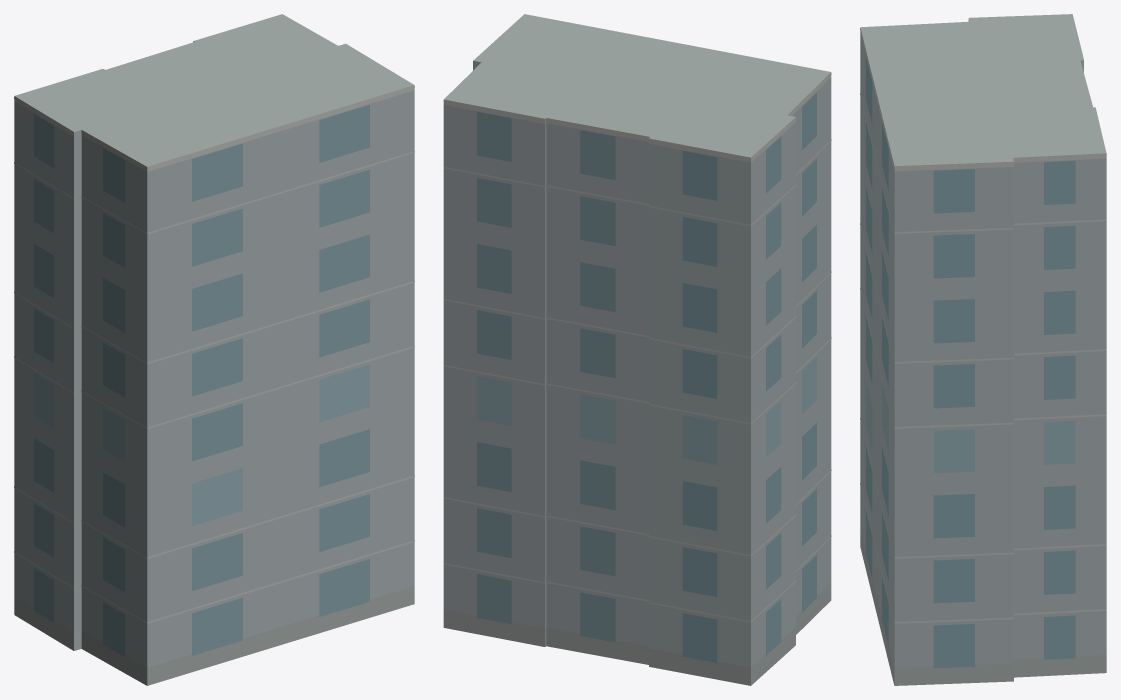
Rendered from survey-upis-32982406.glb.
3 renders of one model, left to right at view 1: azimuth 30°, elevation 25°; view 2: azimuth 150°, elevation 25°; view 3: azimuth 270°, elevation 25°, orthographic.
Parts seen in each view (by area): view 1: survey-upis-32982406.tmp; view 2: survey-upis-32982406.tmp; view 3: survey-upis-32982406.tmp.
Part boxes in pixels (bbox=[...]): survey-upis-32982406.tmp: bbox=[14, 14, 414, 685]; survey-upis-32982406.tmp: bbox=[443, 14, 831, 685]; survey-upis-32982406.tmp: bbox=[860, 14, 1106, 685].
Size of the model in its own units: 15.53 by 24.7 by 10.63.
